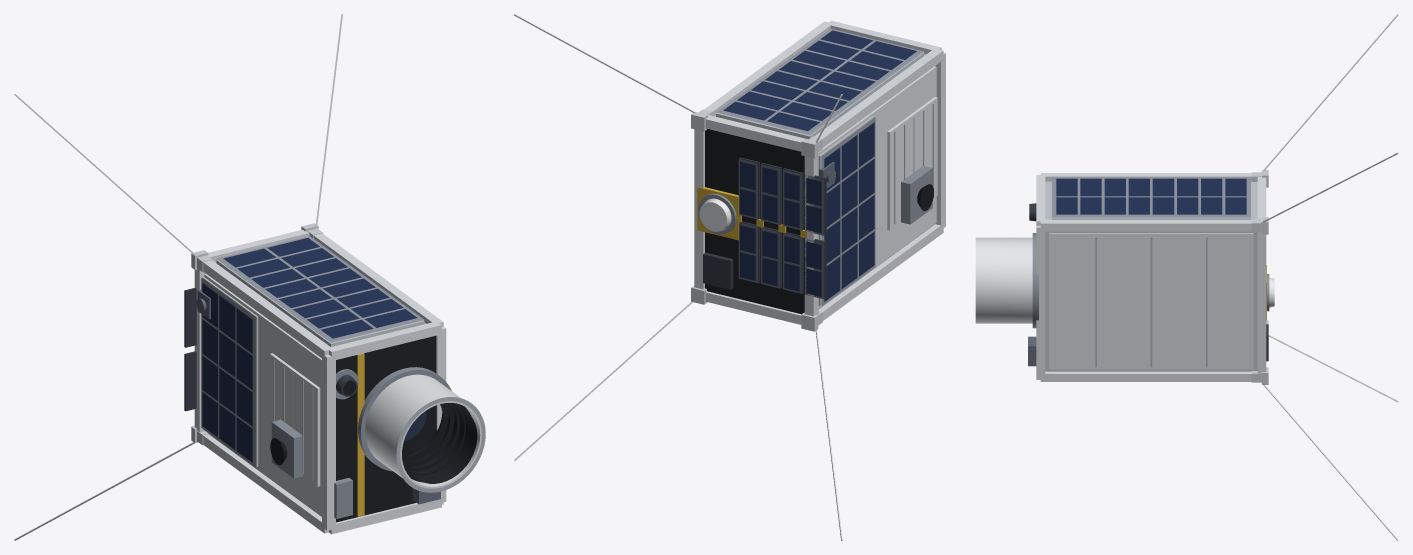
Rendered from ghgsat-c.glb.
3 renders of one model, left to right at view 1: azimuth 30°, elevation 25°; view 2: azimuth 150°, elevation 25°; view 3: azimuth 270°, elevation 25°, orthographic. The views are drawn at different scales.
Visible parts, largest first — view 1: body, solar-panel, foil; view 2: body, solar-panel, foil; view 3: body, solar-panel.
Boxes of the visible parts, left/top/right/bottom form: body: left=14, top=14, right=485, bottom=540; solar-panel: left=202, top=238, right=416, bottom=462; foil: left=357, top=353, right=364, bottom=516; body: left=514, top=14, right=945, bottom=540; solar-panel: left=723, top=30, right=916, bottom=301; foil: left=697, top=187, right=806, bottom=240; body: left=975, top=14, right=1398, bottom=540; solar-panel: left=1056, top=178, right=1246, bottom=214.
Size of the model in its own units: 0.5961 by 0.7744 by 0.765.
